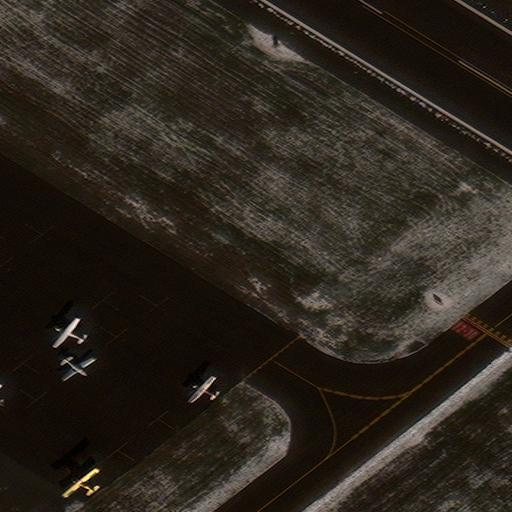Small Civil Transport: (60, 467, 95, 495), (51, 317, 84, 345), (62, 358, 97, 381), (187, 375, 216, 400)
